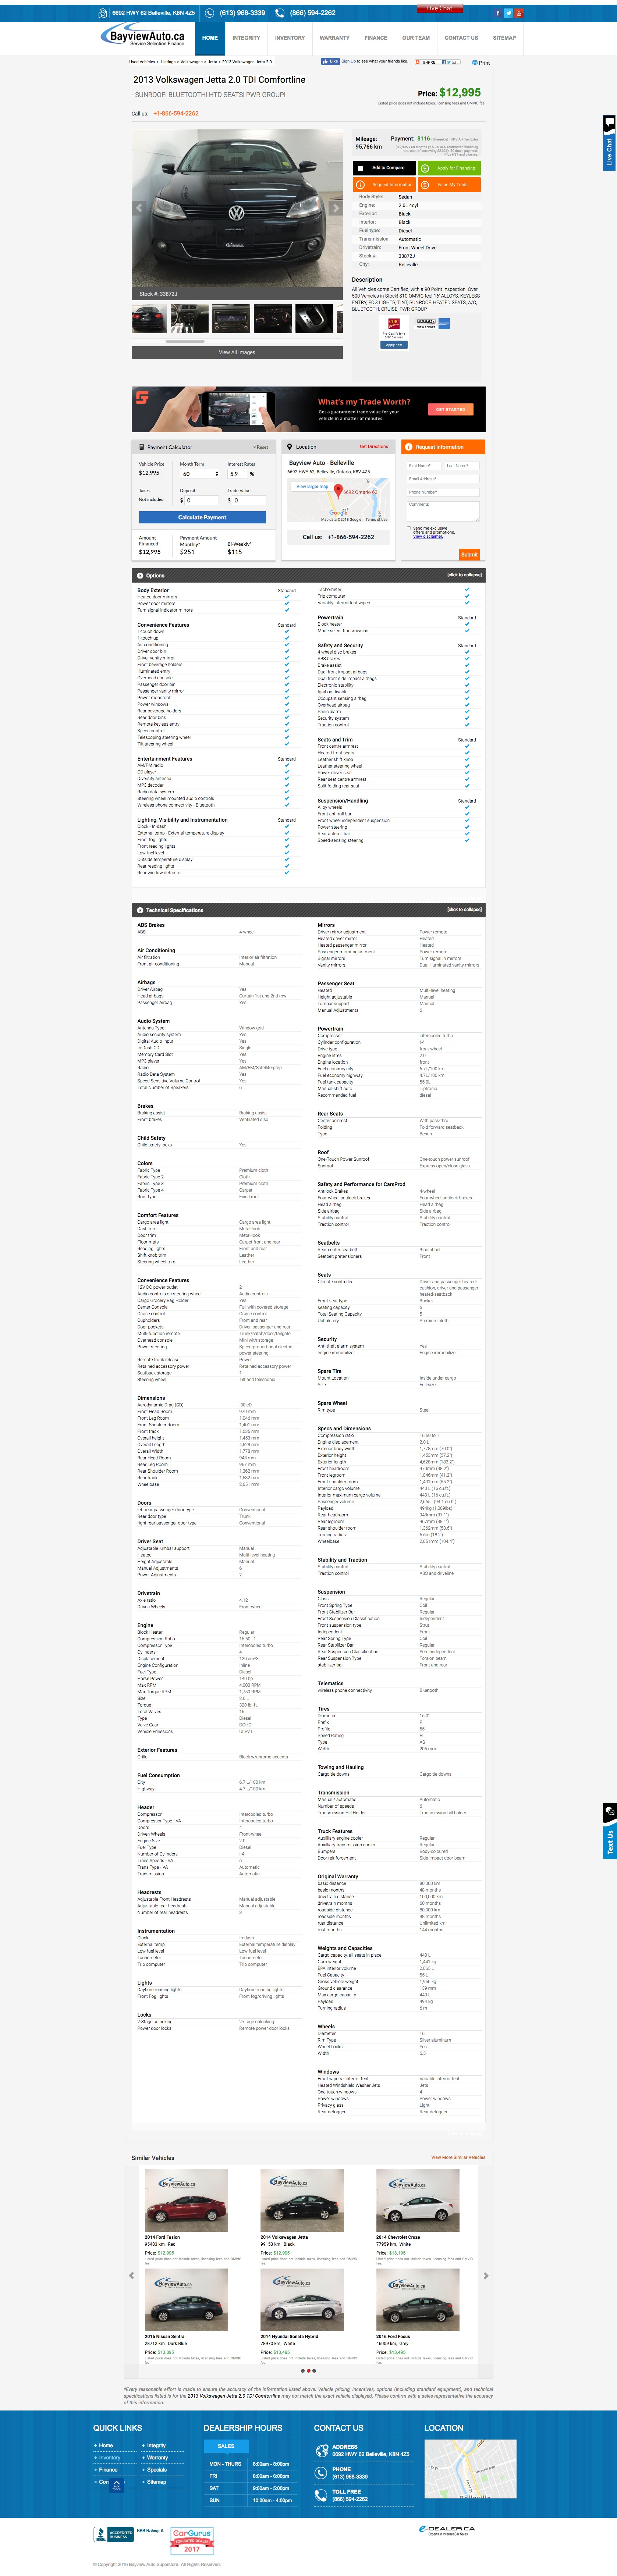car: (336, 337, 344, 345)
